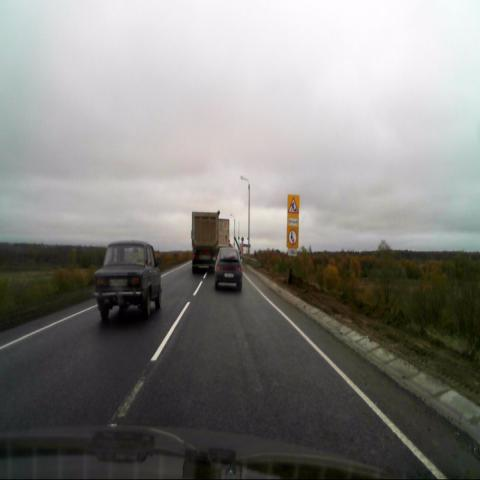2_6: (287, 228, 298, 248)
